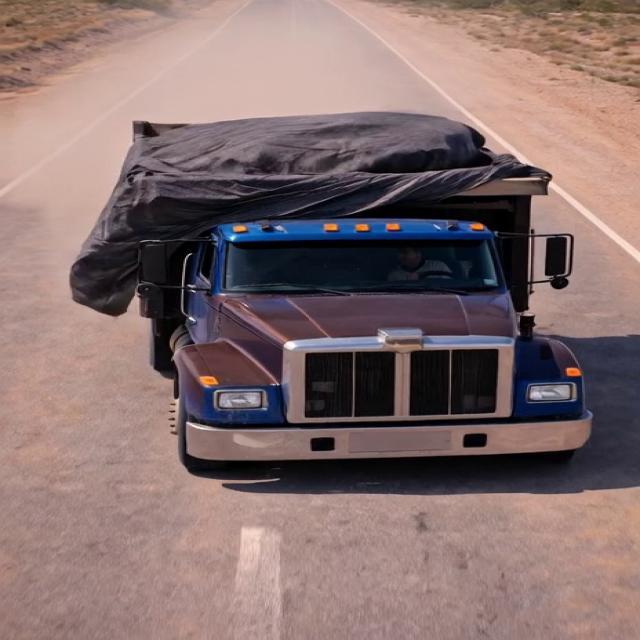trailer: (102, 100, 556, 222)
truck: (72, 85, 604, 468)
